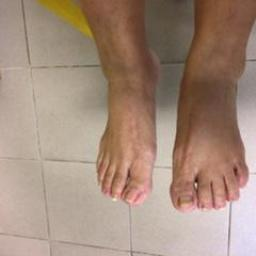Dorsal View -Both Feet-: (82, 24, 255, 214)
